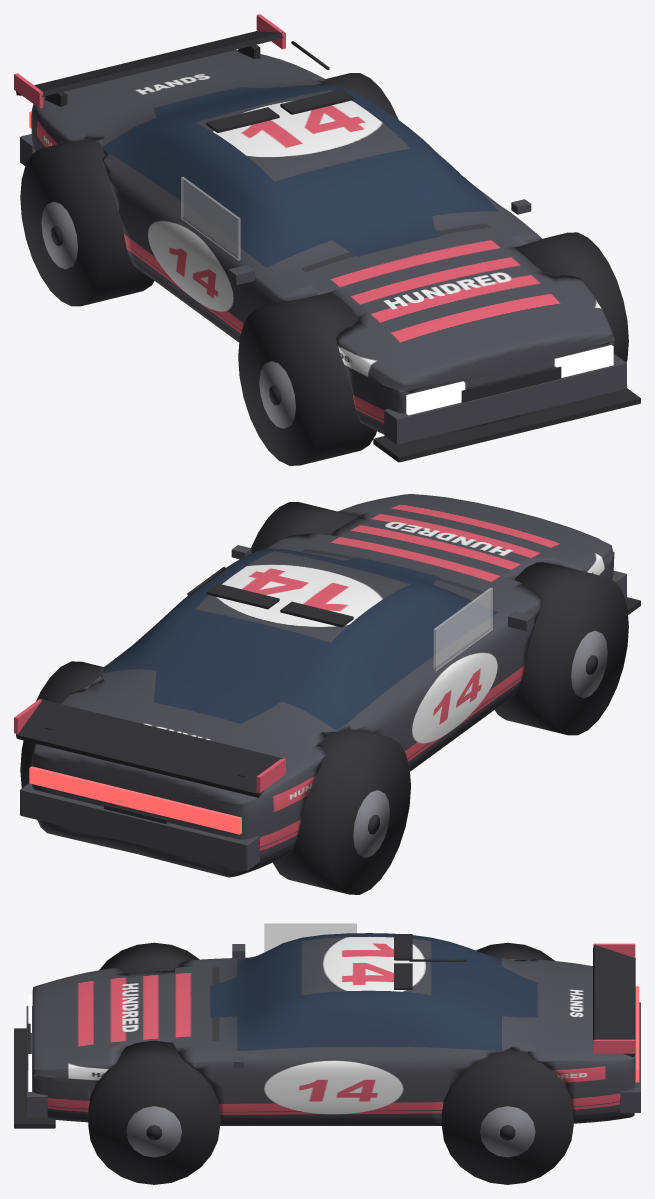
Rendered from car_6.glb.
3 renders of one model, top to bottom at view 1: azimuth 30°, elevation 25°; view 2: azimuth 150°, elevation 25°; view 3: azimuth 270°, elevation 25°, orthographic. The views are drawn at different scales.
Parts seen in each view (by area): view 1: body, cutter, cutter.002, bumperF, cutter.001, splitter, spoiler, net, dish.002, dish, grille, headlight (+4 smaller); view 2: body, cutter, cutter.002, spoiler, bumperR, tail, net, cutter.001, cutter.003, dish, dish.002, flap.001 (+2 smaller); view 3: body, cutter.001, cutter.003, spoiler, dish.003, dish.001, cutter, splitter, net, cutter.002, bumperF, bumperR (+4 smaller).
Boxes of the visible parts, <box> form: body: <box>31,50,614,442</box>; cutter: <box>238,292,376,465</box>; cutter.002: <box>20,139,154,306</box>; bumperF: <box>384,354,626,444</box>; cutter.001: <box>515,232,628,362</box>; splitter: <box>373,388,640,462</box>; spoiler: <box>16,31,283,96</box>; net: <box>181,177,240,260</box>; dish.002: <box>41,201,77,269</box>; dish: <box>259,361,295,428</box>; grille: <box>461,366,561,402</box>; headlight: <box>406,381,465,415</box>; body: <box>31,494,614,877</box>; cutter: <box>495,562,628,735</box>; cutter.002: <box>273,729,410,894</box>; spoiler: <box>16,699,282,797</box>; bumperR: <box>20,783,259,870</box>; tail: <box>29,766,241,834</box>; net: <box>433,587,492,671</box>; cutter.001: <box>251,502,357,552</box>; cutter.003: <box>20,661,103,788</box>; dish: <box>571,630,607,698</box>; dish.002: <box>353,790,389,857</box>; flap.001: <box>206,583,279,609</box>; body: <box>32,933,635,1125</box>; cutter.001: <box>88,1040,220,1184</box>; cutter.003: <box>441,1049,573,1184</box>; spoiler: <box>593,944,635,1057</box>; dish.003: <box>480,1106,535,1157</box>; dish.001: <box>126,1106,181,1157</box>; cutter: <box>99,942,199,973</box>; splitter: <box>14,1028,55,1128</box>; net: <box>264,923,356,952</box>; cutter.002: <box>476,942,554,960</box>; bumperF: <box>26,1006,47,1117</box>; bumperR: <box>620,1002,640,1112</box>.
Bounding box in the file's own units: 2.58 × 1.76 × 5.41.
Materials: 11 (1 with a texture image).
